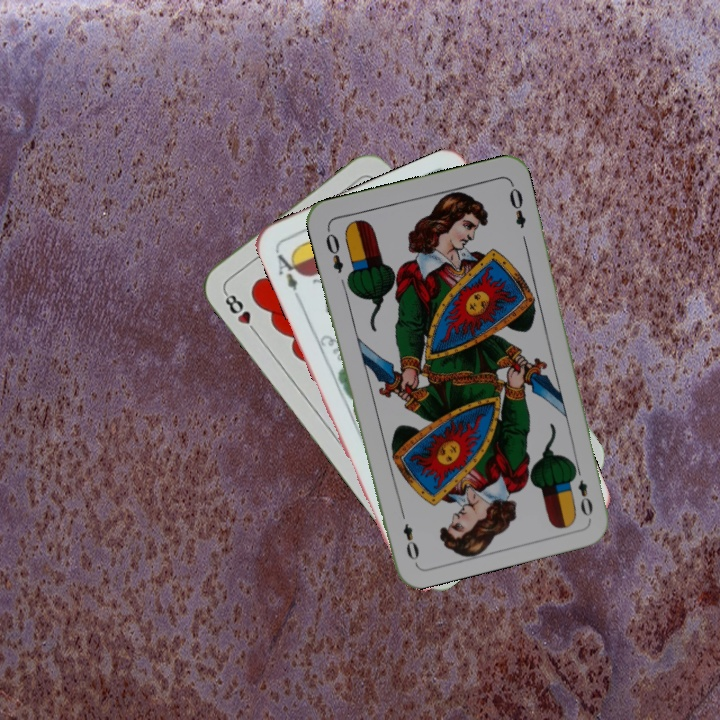EA: (271, 247, 304, 303)
EO: (569, 461, 596, 519), (321, 224, 346, 276)
H8: (220, 287, 261, 338)
